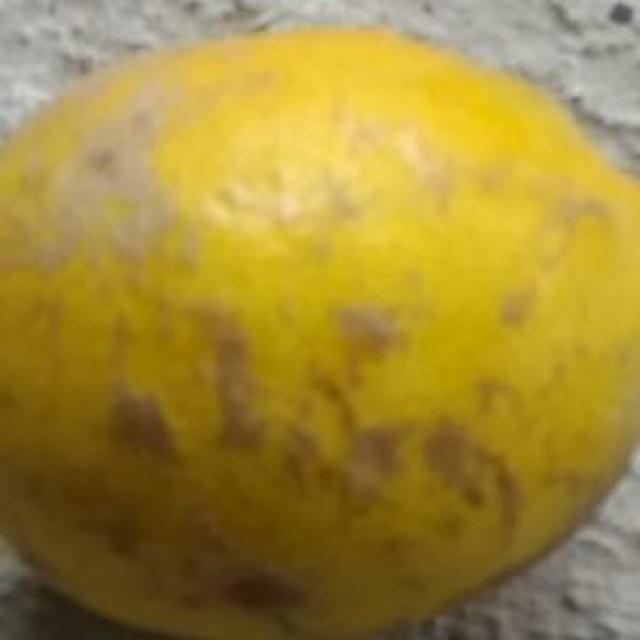lemon: (0, 28, 637, 630)
